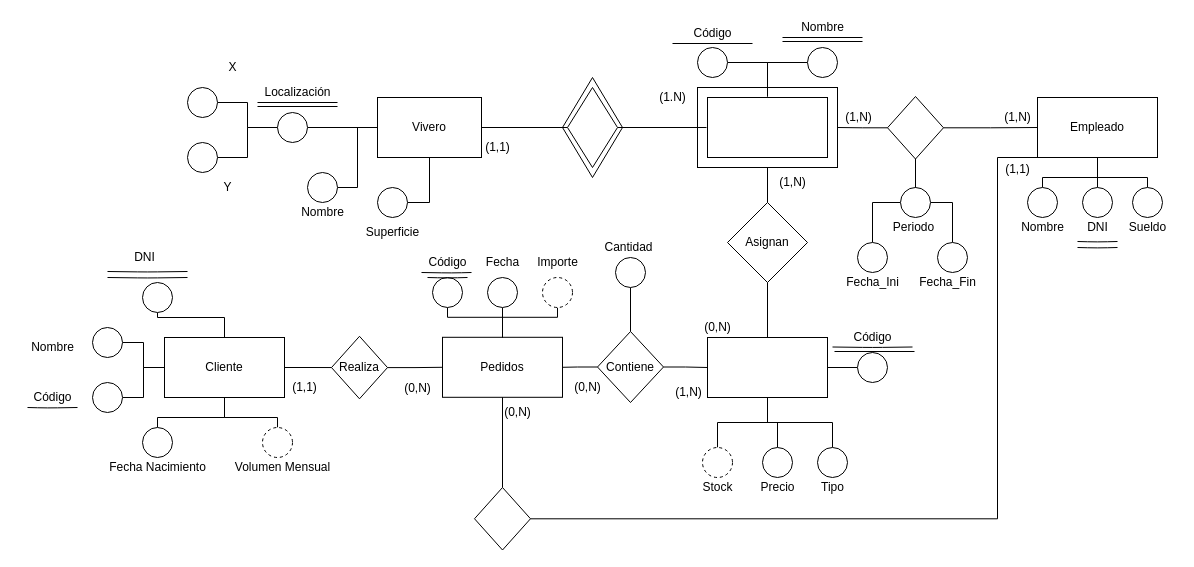
The diagram is 1194 pixels wide and 567 high, and some of its shapes have lost their labels. The shapes that lost their labels are listed below. From the top down, each one's box as (x1, y1, x2, y2) in pixels, then its label:
(706, 96, 828, 158): Zona
(886, 96, 944, 159): Trabaja
(706, 336, 828, 398): Productos
(474, 486, 530, 550): Gestiona
